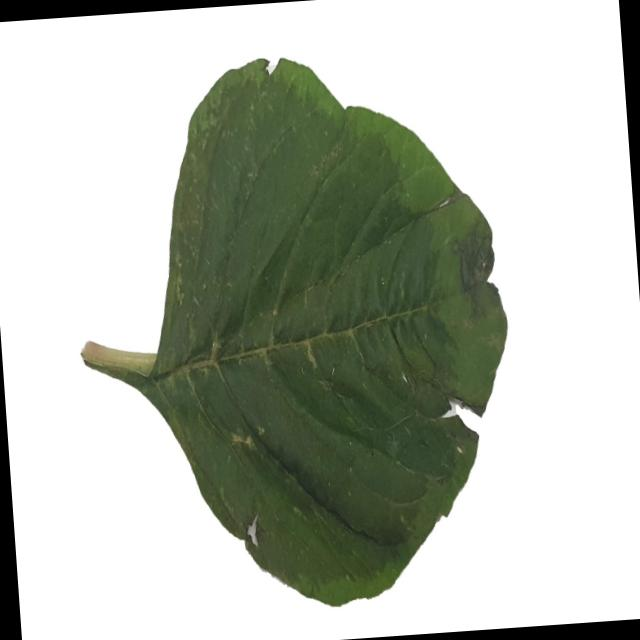Medicinal-Arive Dantu: (59, 40, 526, 619)
